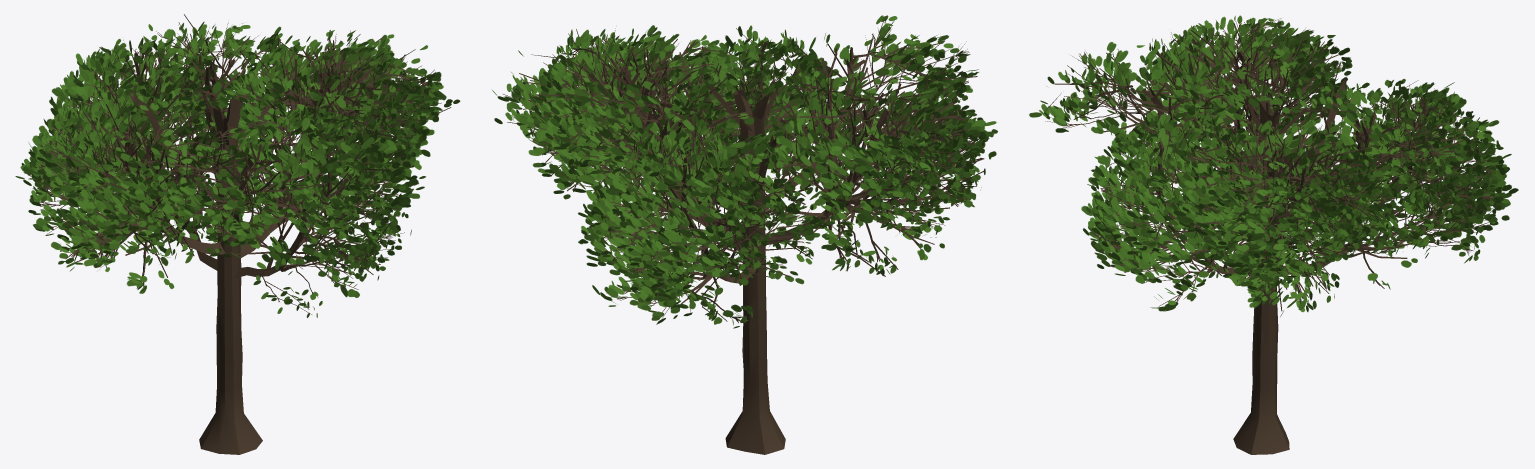
The picture shows the model from 3 angles, left to right: view 1: azimuth 30°, elevation 25°; view 2: azimuth 150°, elevation 25°; view 3: azimuth 270°, elevation 25°; orthographic projection. The views are drawn at different scales.
Parts seen in each view (by area): view 1: oak 01.001_trunk_Mat.001_0.023; view 2: oak 01.001_trunk_Mat.001_0.023; view 3: oak 01.001_trunk_Mat.001_0.023.
Boxes of the visible parts, x1,y1,x2,y2 form: oak 01.001_trunk_Mat.001_0.023: (15,14,460,454); oak 01.001_trunk_Mat.001_0.023: (492,15,997,454); oak 01.001_trunk_Mat.001_0.023: (1029,15,1518,454).
Bounding box in the file's own units: 6.8 × 5.43 × 6.87.
2 materials, 1 textured.
